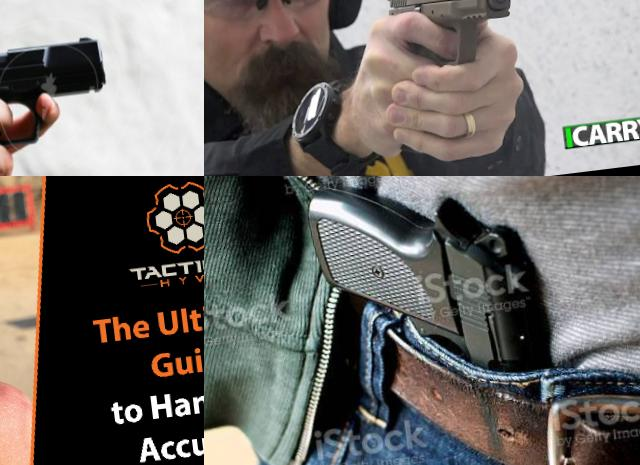handgun: (298, 176, 564, 416), (0, 23, 135, 176), (377, 0, 528, 84), (0, 256, 57, 424)
